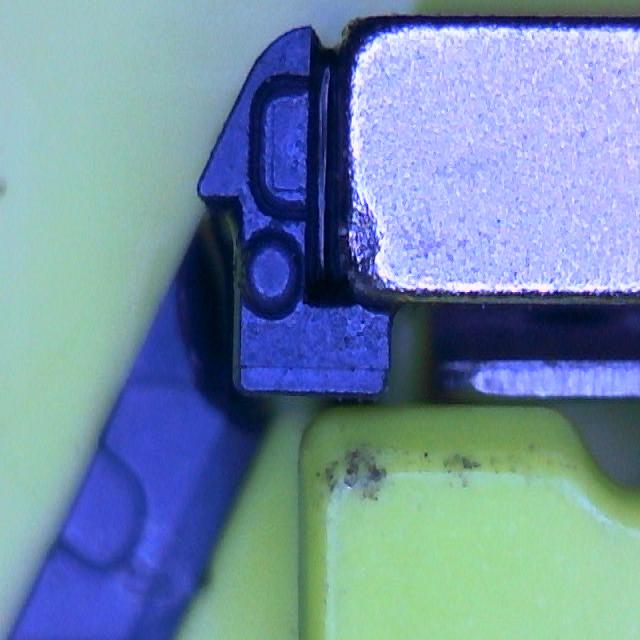good: (247, 71, 315, 223)
